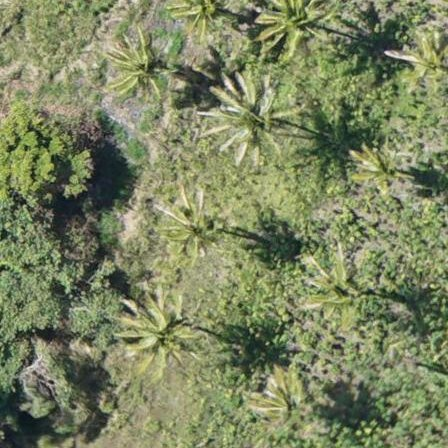palm_tree: (205, 72, 292, 165), (148, 183, 232, 271), (120, 287, 199, 371), (103, 28, 178, 107), (248, 365, 321, 442), (253, 1, 338, 65), (302, 257, 364, 320), (390, 31, 448, 92), (169, 1, 239, 42), (351, 143, 406, 193)
